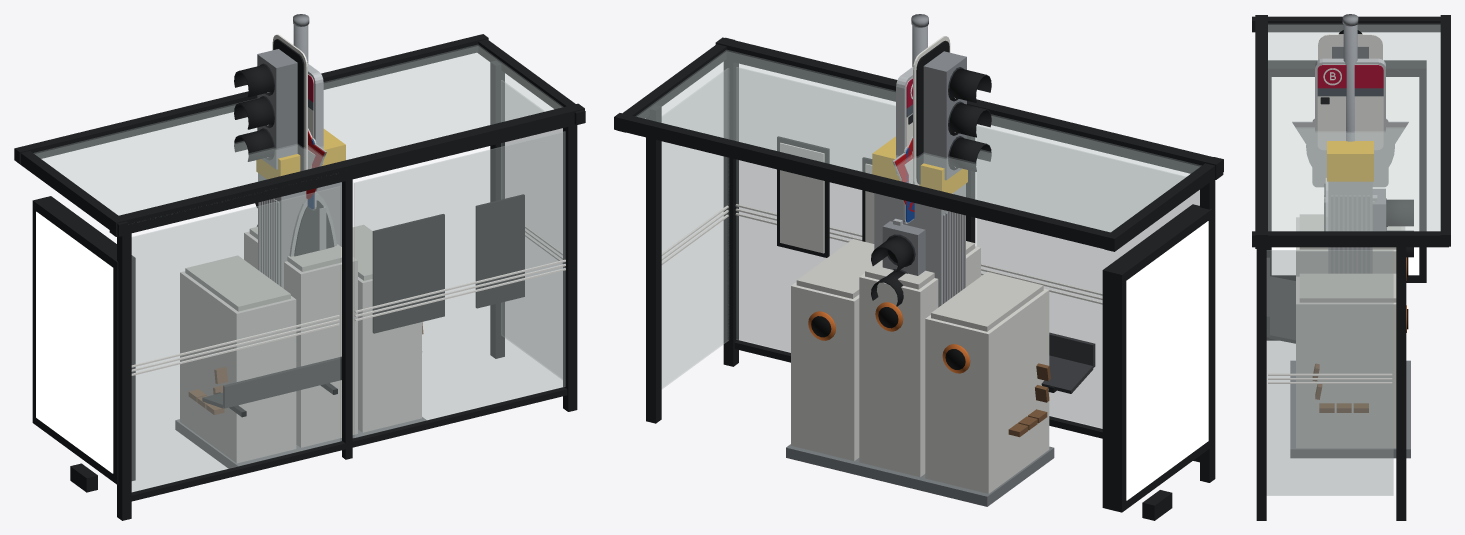
File: brussels_furniture.glb
3 views of the same model, side by side, from view 1: azimuth 30°, elevation 25°; view 2: azimuth 150°, elevation 25°; view 3: azimuth 270°, elevation 25° (orthographic). The views are drawn at different scales.
Visible parts, largest first — view 1: stib_shelter, bottle_bank, traffic_signal, villo_terminal, stib_pole, bench; view 2: stib_shelter, bottle_bank, traffic_signal, villo_terminal, stib_pole, bench; view 3: stib_shelter, bottle_bank, villo_terminal, stib_pole, traffic_signal, sign_e9a, sign_b1, sign_c43, bench.
Boxes of the visible parts, x1,y1,x2,y2 form: stib_shelter: (14, 34, 585, 520); bottle_bank: (175, 225, 426, 468); traffic_signal: (234, 14, 309, 226); villo_terminal: (256, 129, 345, 288); stib_pole: (307, 63, 326, 250); bench: (188, 322, 423, 414); stib_shelter: (614, 37, 1223, 520); bottle_bank: (786, 239, 1054, 506); traffic_signal: (871, 14, 991, 306); villo_terminal: (872, 136, 967, 307); stib_pole: (893, 67, 912, 225); bench: (1008, 363, 1050, 437); stib_shelter: (1252, 15, 1450, 520); bottle_bank: (1290, 214, 1410, 458); villo_terminal: (1324, 141, 1373, 273); stib_pole: (1315, 58, 1385, 230); traffic_signal: (1318, 14, 1413, 257); sign_e9a: (1312, 118, 1388, 187); sign_b1: (1292, 121, 1408, 175); sign_c43: (1306, 123, 1394, 180); bench: (1312, 363, 1368, 412).
Bounding box in the file's own units: 4.1 × 3.45 × 1.56.
